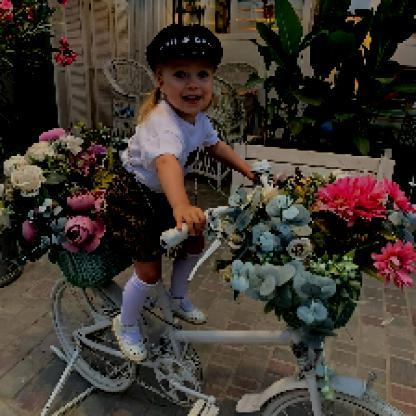child: (103, 23, 259, 363)
